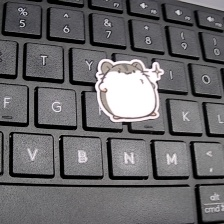mouse: (93, 57, 167, 122)
